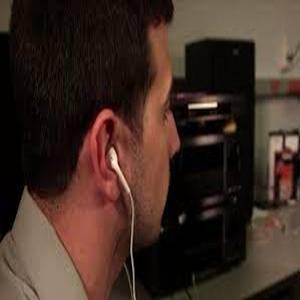Headphones: (83, 103, 156, 220)
